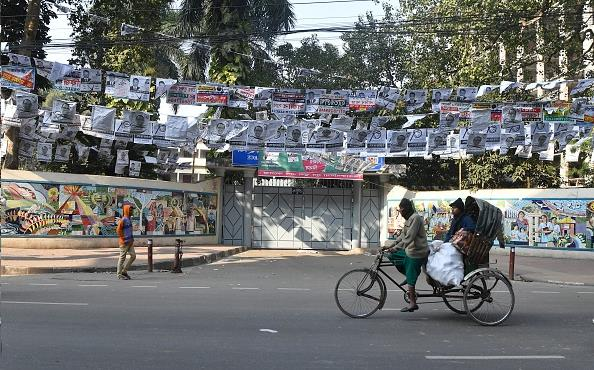Rickshaw: (344, 187, 513, 323)
